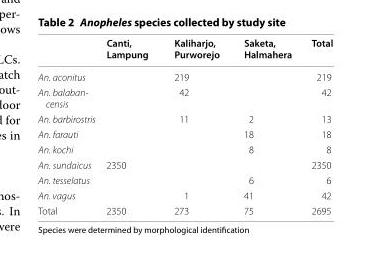table: (37, 36, 332, 216)
table column: (160, 36, 230, 216), (230, 36, 300, 216), (37, 36, 100, 216), (100, 36, 160, 216), (300, 36, 332, 216)
table column header: (37, 36, 332, 65)
table row: (37, 36, 332, 65), (37, 84, 332, 110), (37, 65, 332, 84), (37, 110, 332, 126), (37, 156, 332, 172), (37, 126, 332, 141), (37, 141, 332, 156), (37, 172, 332, 187), (37, 187, 332, 202), (37, 202, 332, 216)
